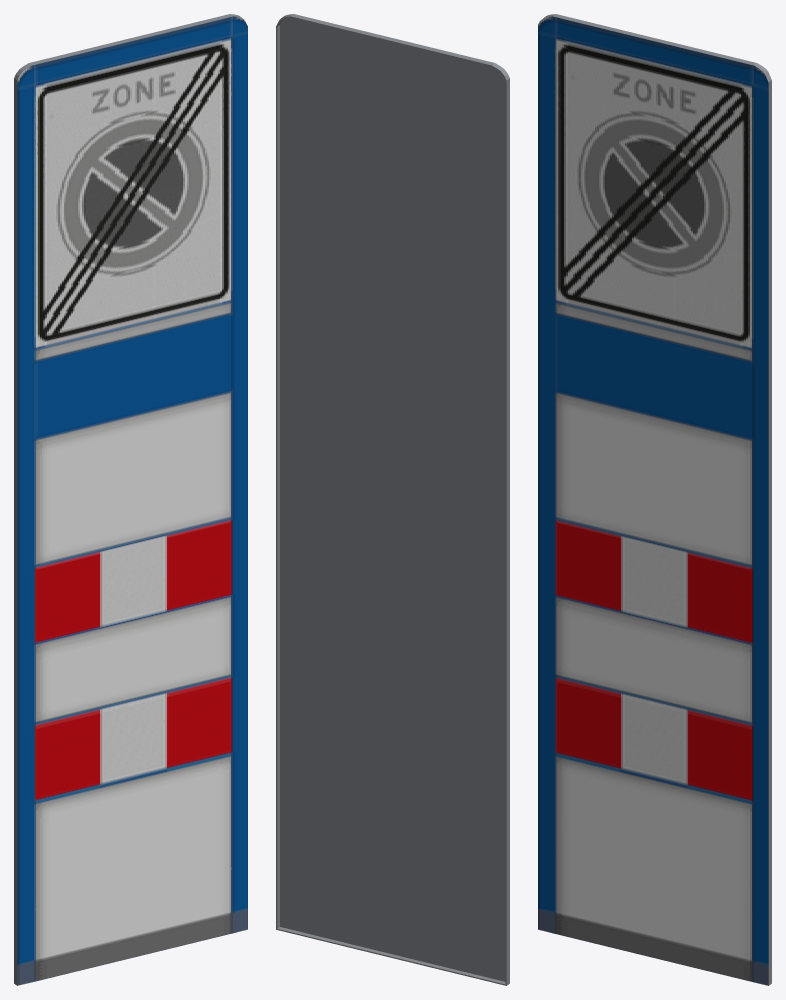
3 renders of one model, left to right at view 1: azimuth 30°, elevation 25°; view 2: azimuth 150°, elevation 25°; view 3: azimuth 330°, elevation 25°, orthographic.
Parts seen in each view (by area): view 1: cat_551627c68f24d8b2; view 2: cat_551627c68f24d8b2; view 3: cat_551627c68f24d8b2.
Boxes of the visible parts, <box> form: cat_551627c68f24d8b2: <box>14,14,247,985</box>; cat_551627c68f24d8b2: <box>276,14,509,985</box>; cat_551627c68f24d8b2: <box>538,14,771,985</box>.
Size of the model in its own units: 0.6 by 0.015 by 2.28.
2 materials, 1 textured.
